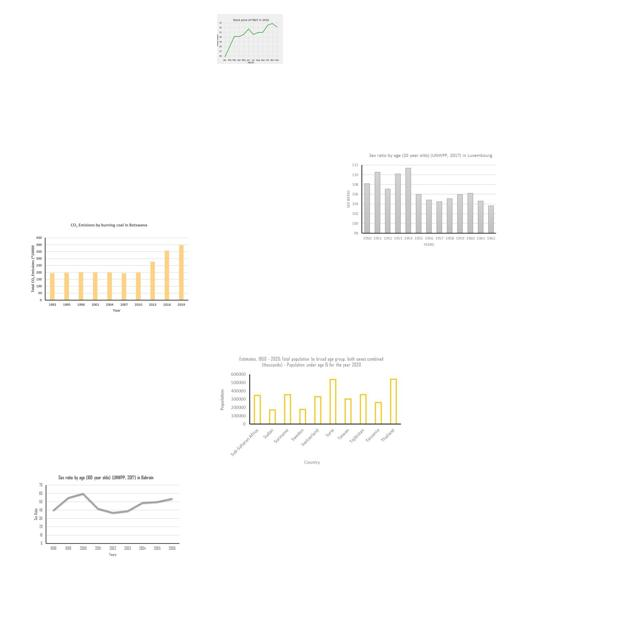Graph: (218, 354, 404, 465), (27, 221, 192, 315), (342, 151, 500, 249), (31, 474, 181, 560), (217, 14, 283, 64)
